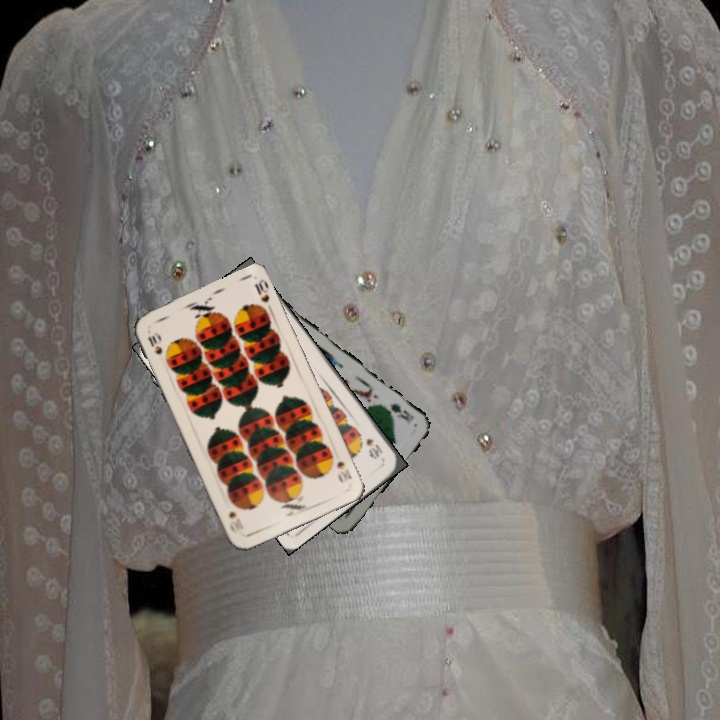GK: (380, 399, 417, 424)
S10: (144, 329, 169, 363), (362, 434, 387, 463), (333, 457, 354, 485)
